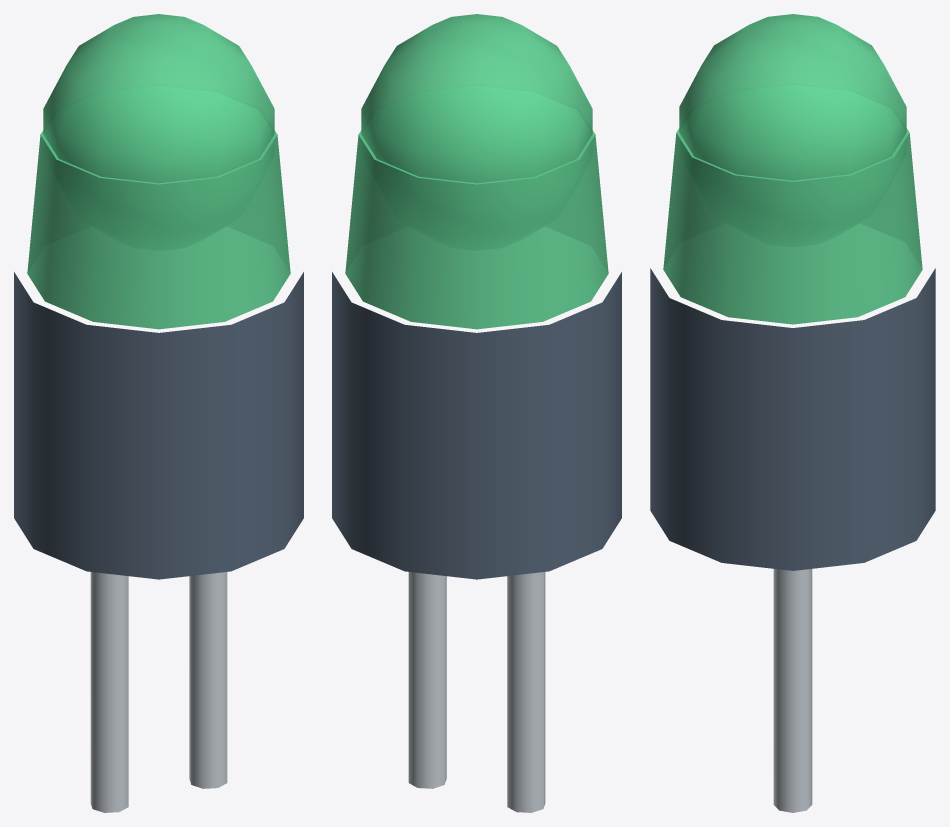
The model's file is led.glb.
3 renders of one model, left to right at view 1: azimuth 30°, elevation 25°; view 2: azimuth 150°, elevation 25°; view 3: azimuth 270°, elevation 25°, orthographic.
Parts seen in each view (by area): view 1: Diodo LED-dark, Diodo LED-green, Diodo LED-silver; view 2: Diodo LED-dark, Diodo LED-green, Diodo LED-silver; view 3: Diodo LED-dark, Diodo LED-green, Diodo LED-silver.
Part boxes in pixels (x1,y1,x2,y2): Diodo LED-dark: [14, 272, 303, 579]; Diodo LED-green: [27, 14, 290, 329]; Diodo LED-silver: [90, 572, 227, 812]; Diodo LED-dark: [332, 272, 621, 579]; Diodo LED-green: [345, 14, 608, 329]; Diodo LED-silver: [408, 572, 545, 812]; Diodo LED-dark: [650, 268, 935, 570]; Diodo LED-green: [663, 14, 922, 324]; Diodo LED-silver: [773, 569, 812, 812].
Size of the model in its own units: 0.66 by 1.93 by 0.66.
